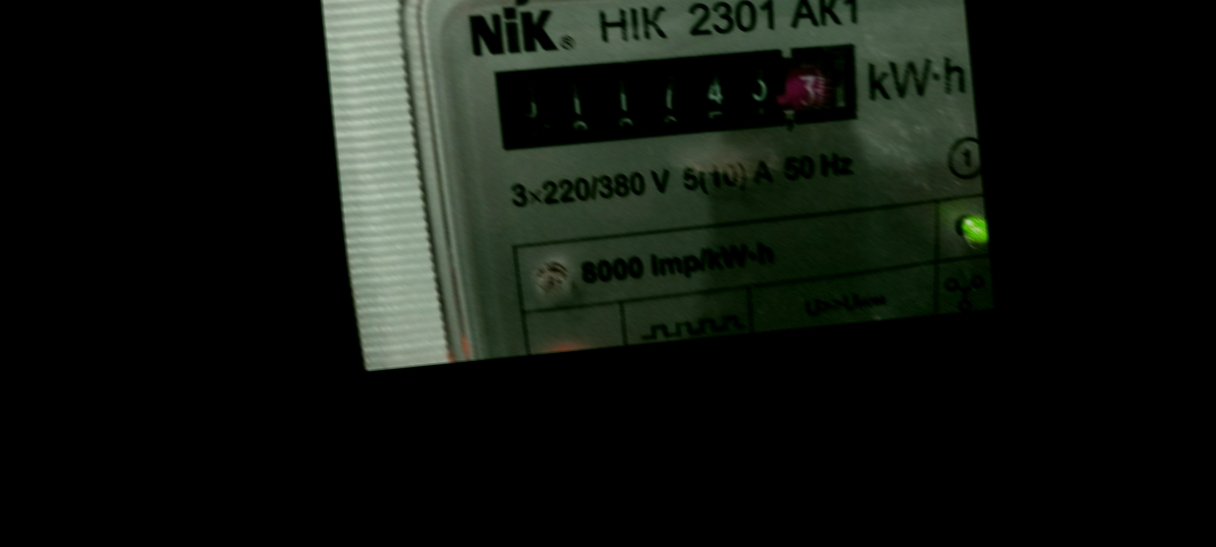0: (515, 80, 541, 121), (565, 75, 587, 117)
1: (612, 71, 632, 114)
3: (746, 61, 770, 106), (795, 69, 819, 109)
4: (702, 65, 725, 107)
7: (654, 67, 682, 113)
screen: (474, 21, 870, 166)
